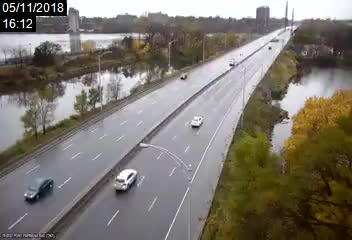personal_car: (24, 178, 54, 203), (114, 168, 138, 193), (190, 116, 204, 127), (179, 73, 188, 80), (229, 60, 236, 66)
